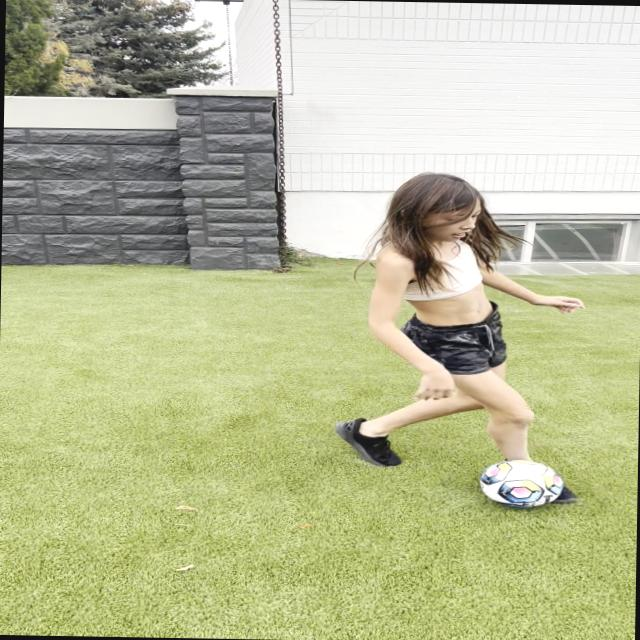Soccer Ball: (478, 459, 564, 508)
